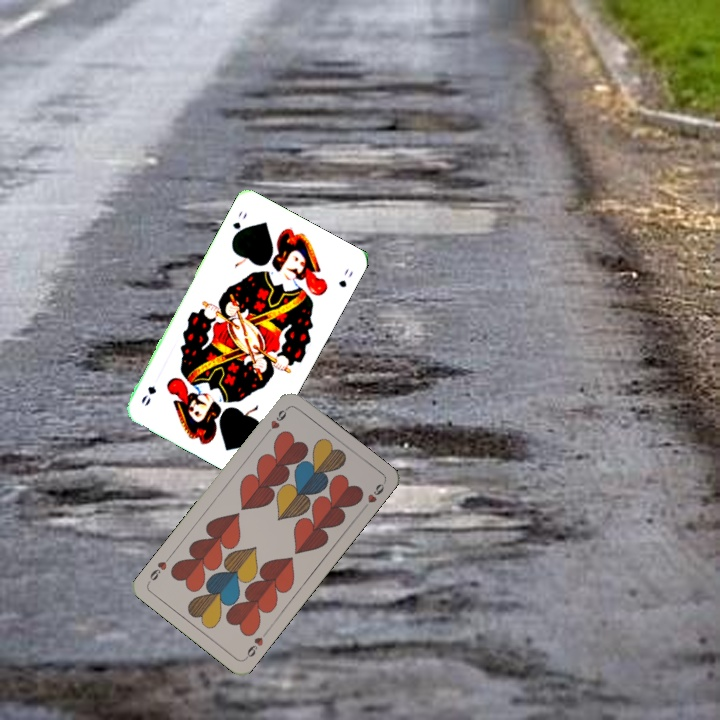GO: (228, 207, 250, 242)
H9: (261, 403, 291, 438), (241, 627, 270, 662)
